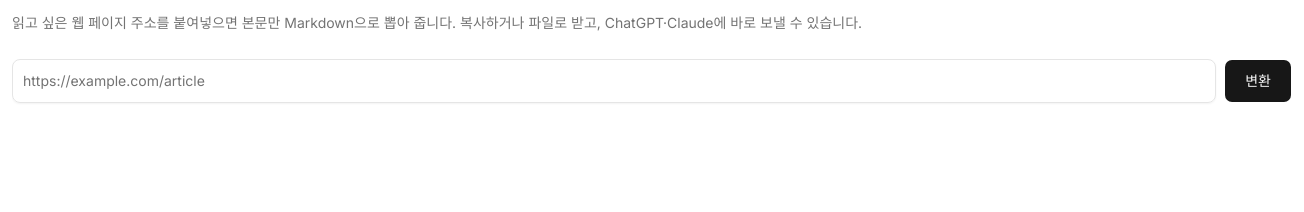
Test: fetch 오류는 메시지를 보이고 결과 카드를 만들지 않으며 입력창은 계속 쓸 수 있다
The width and height of the screenshot is (1304, 212).
Type "https://example.com/a" into the field named "웹 페이지 URL" at (614, 81), box [12, 59, 1216, 103]
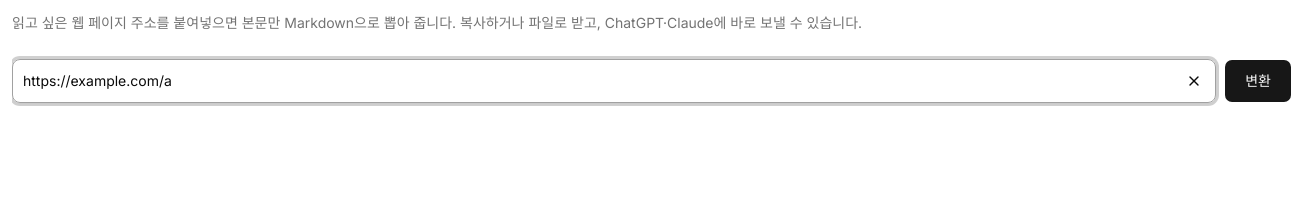
Click the button "변환" at (1258, 81), box [1224, 59, 1292, 103]
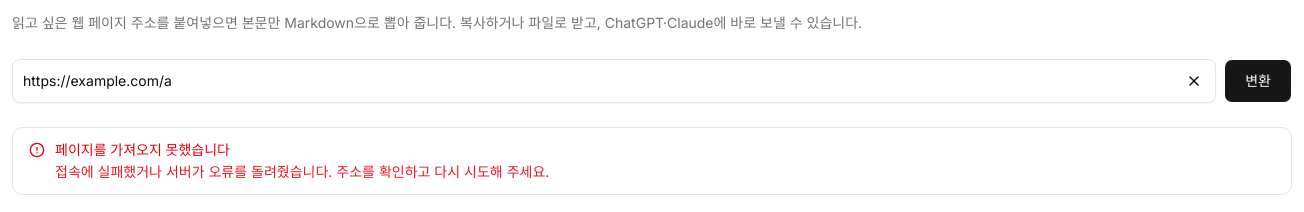
Now the message shows "페이지를 가져오지 못했습니다", box [55, 141, 230, 158]
Type "x" into the field named "웹 페이지 URL" at (614, 81), box [12, 59, 1216, 103]
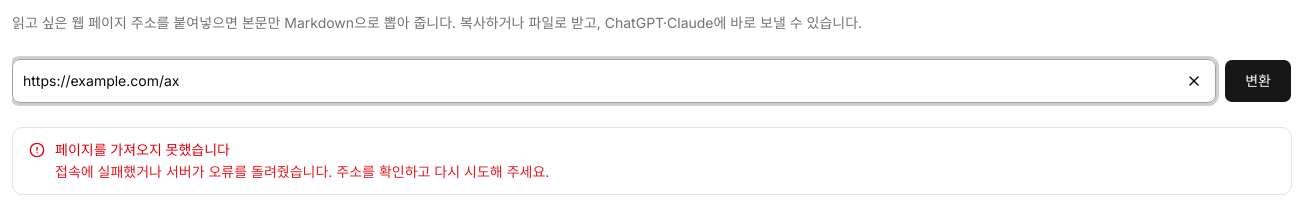
Now the field named "웹 페이지 URL" holds "https://example.com/ax", box [12, 59, 1216, 103]
